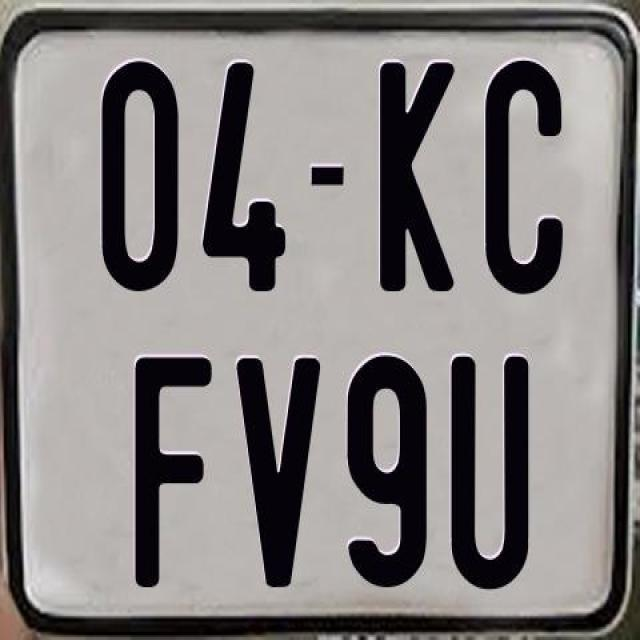0: (98, 59, 178, 293)
4: (202, 59, 290, 294)
9: (346, 354, 434, 594)
C: (484, 58, 562, 298)
F: (130, 353, 208, 588)
K: (376, 59, 452, 291)
U: (446, 352, 528, 584)
V: (232, 358, 322, 592)
